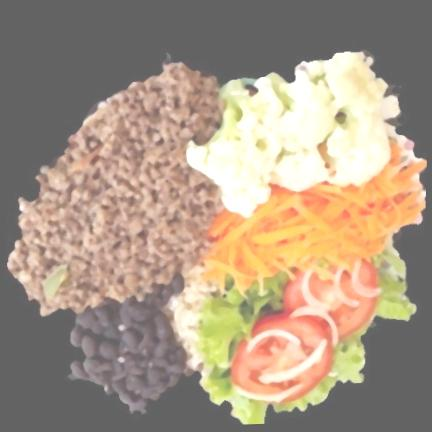beans: (71, 273, 186, 410)
carrot: (204, 145, 426, 290)
cauliflower: (187, 51, 398, 215)
meat: (8, 63, 221, 313)
salad: (195, 275, 289, 423)
tomato: (232, 260, 380, 402)
